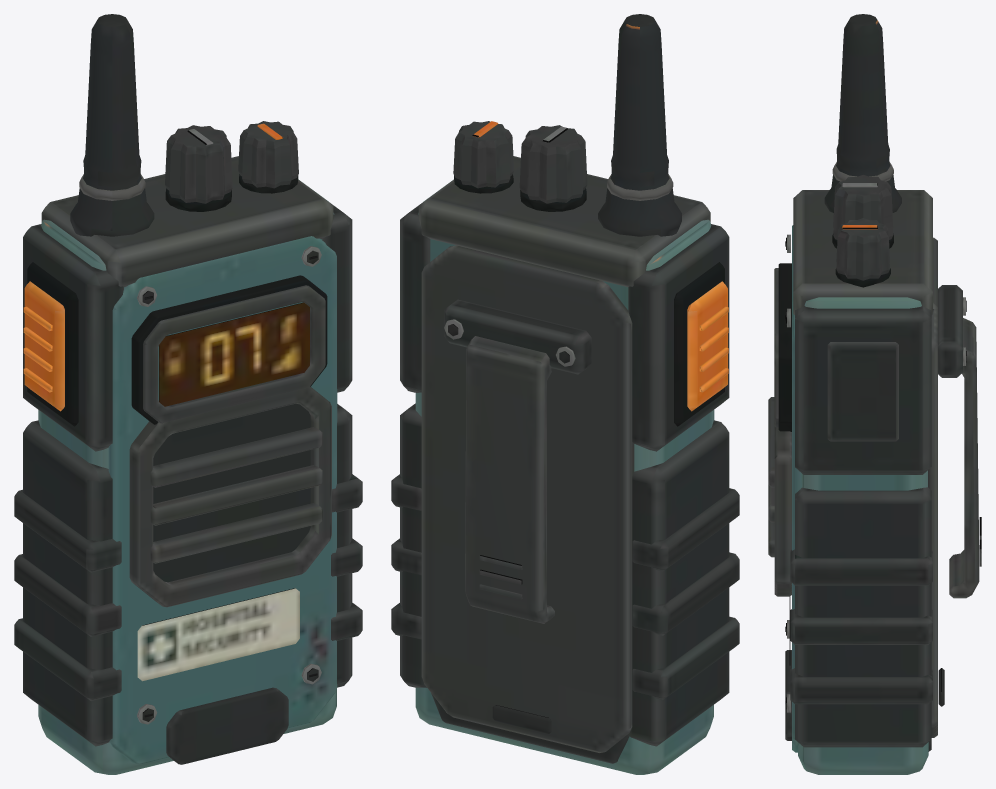
The model's file is hospital_radio.glb.
3 views of the same model, side by side, from view 1: azimuth 30°, elevation 25°; view 2: azimuth 150°, elevation 25°; view 3: azimuth 270°, elevation 25° (orthographic). The views are drawn at different scales.
Visible parts, largest first — view 1: RadioBody; view 2: RadioBody, BeltClip; view 3: RadioBody, BeltClip.
Part boxes in pixels (bbox=[...]): RadioBody: bbox=[14, 14, 362, 774]; RadioBody: bbox=[391, 14, 739, 774]; BeltClip: bbox=[444, 299, 591, 623]; RadioBody: bbox=[768, 14, 944, 774]; BeltClip: bbox=[938, 285, 981, 598].
Bounding box in the file's own units: 0.1036 × 0.25 × 0.0717.
1 material, 1 textured.
